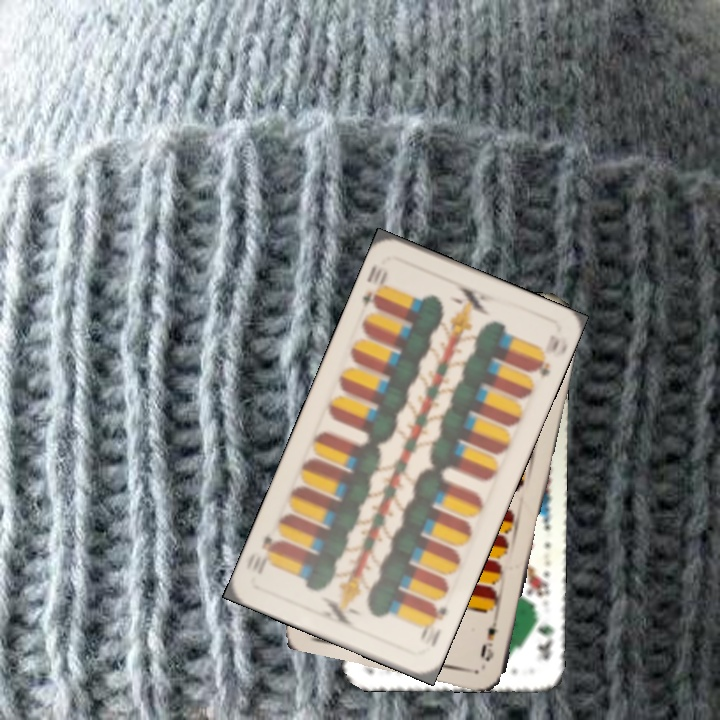E10: (416, 600, 450, 649), (358, 266, 391, 312)
E9: (476, 609, 501, 664)
GK: (530, 607, 557, 663)
